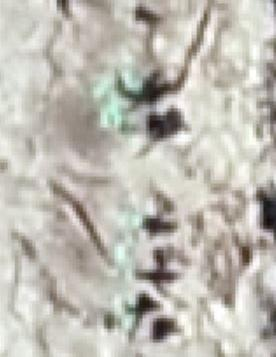cotton: (102, 82, 127, 126), (118, 300, 137, 331), (119, 211, 144, 230)
